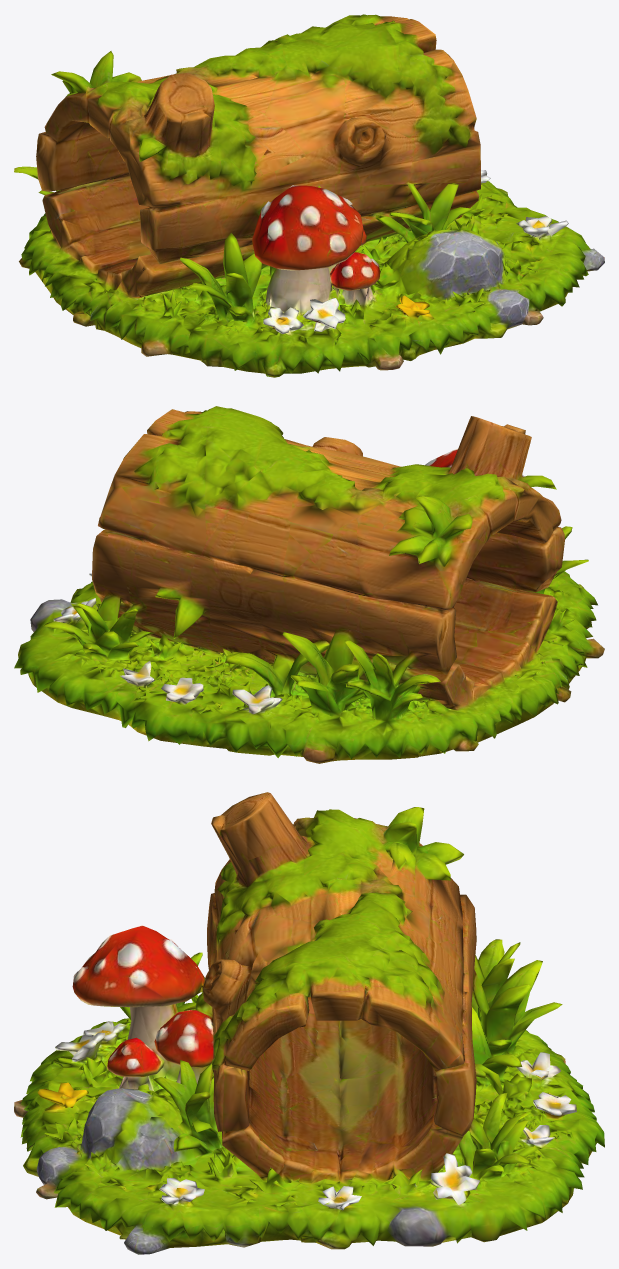
Rendered from Hollow log mushroom.glb.
The picture shows the model from 3 angles, top to bottom: view 1: azimuth 30°, elevation 25°; view 2: azimuth 150°, elevation 25°; view 3: azimuth 270°, elevation 25°; orthographic projection. The views are drawn at different scales.
Bounding box in the file's own units: 1.88 × 0.925 × 1.89.
1 material, 1 textured.
